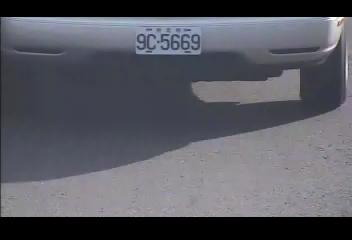plate: (134, 25, 202, 56)
